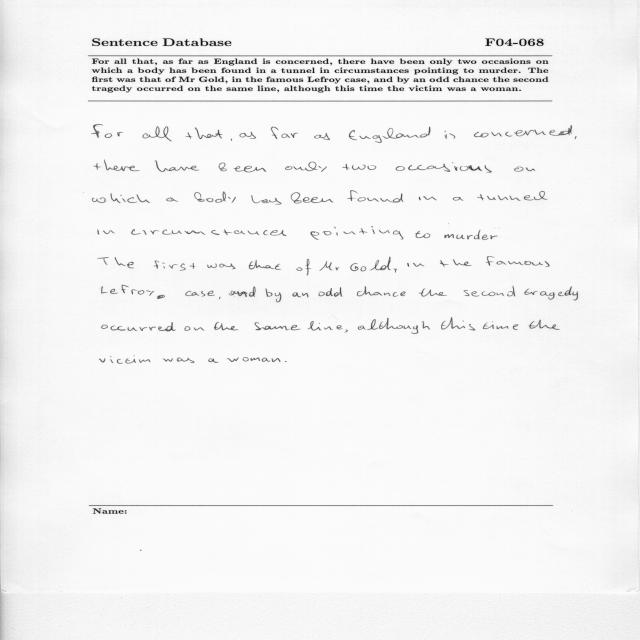word: (311, 226, 404, 240), (349, 127, 430, 143), (474, 125, 572, 137), (358, 318, 430, 334), (131, 229, 286, 236), (395, 162, 492, 173), (101, 285, 165, 299), (524, 287, 578, 301), (477, 191, 548, 201), (486, 256, 550, 267), (101, 323, 176, 332), (347, 191, 403, 203), (350, 257, 391, 272), (92, 193, 150, 203), (464, 286, 515, 297), (357, 286, 406, 297), (155, 160, 199, 172), (94, 160, 140, 171), (194, 191, 236, 203), (219, 163, 267, 173), (143, 126, 172, 142), (291, 193, 333, 204), (441, 318, 475, 331), (445, 230, 489, 240), (92, 124, 123, 138), (285, 162, 327, 172), (154, 261, 196, 271), (100, 356, 151, 364), (186, 128, 223, 139), (98, 257, 134, 268), (255, 322, 301, 330), (271, 127, 298, 139), (307, 321, 343, 330), (249, 260, 281, 270), (528, 320, 560, 330), (483, 321, 518, 330), (251, 195, 282, 205), (229, 286, 256, 297), (227, 357, 280, 362), (440, 259, 472, 267), (419, 288, 447, 297), (296, 259, 311, 275), (319, 287, 343, 297), (266, 289, 282, 303), (343, 164, 377, 170), (320, 261, 340, 271), (214, 322, 239, 330), (185, 291, 215, 297), (207, 264, 236, 270), (163, 358, 195, 363), (239, 132, 256, 139), (314, 133, 330, 140), (514, 167, 535, 172), (416, 231, 431, 238), (185, 326, 205, 331), (445, 131, 456, 139), (98, 230, 115, 235), (292, 293, 309, 298), (419, 196, 437, 200), (407, 263, 424, 267), (209, 358, 219, 363), (166, 198, 178, 202), (453, 197, 463, 201), (491, 235, 498, 239), (394, 268, 397, 273), (344, 330, 348, 333), (575, 136, 577, 139), (219, 297, 221, 300), (231, 138, 232, 141), (285, 361, 287, 362)
